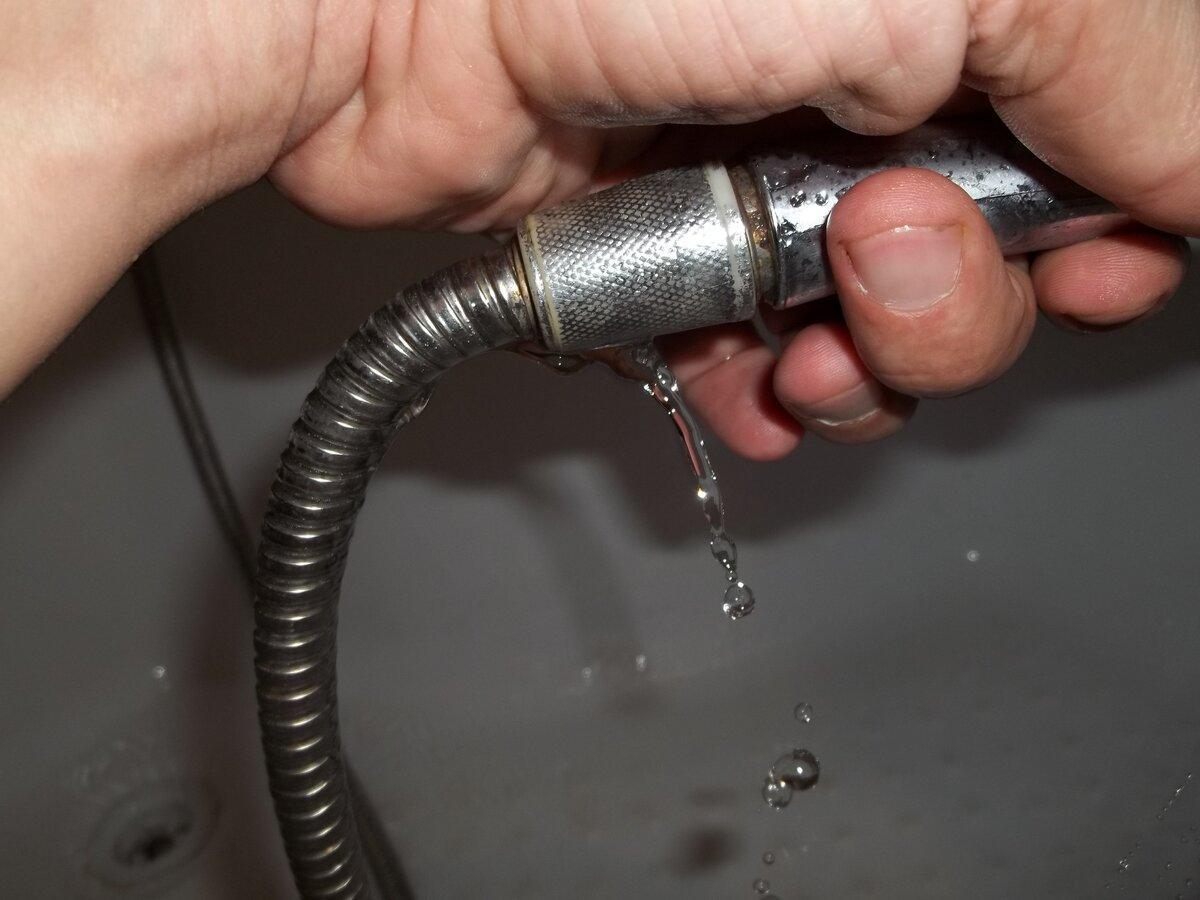water drop: (763, 743, 832, 808), (712, 530, 748, 576), (723, 574, 756, 621), (782, 697, 824, 728)
